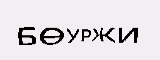А: (36, 15, 56, 37)
Е: (66, 22, 82, 44)
И: (80, 26, 98, 51)
К: (96, 29, 119, 52)
Л: (56, 17, 71, 39)
